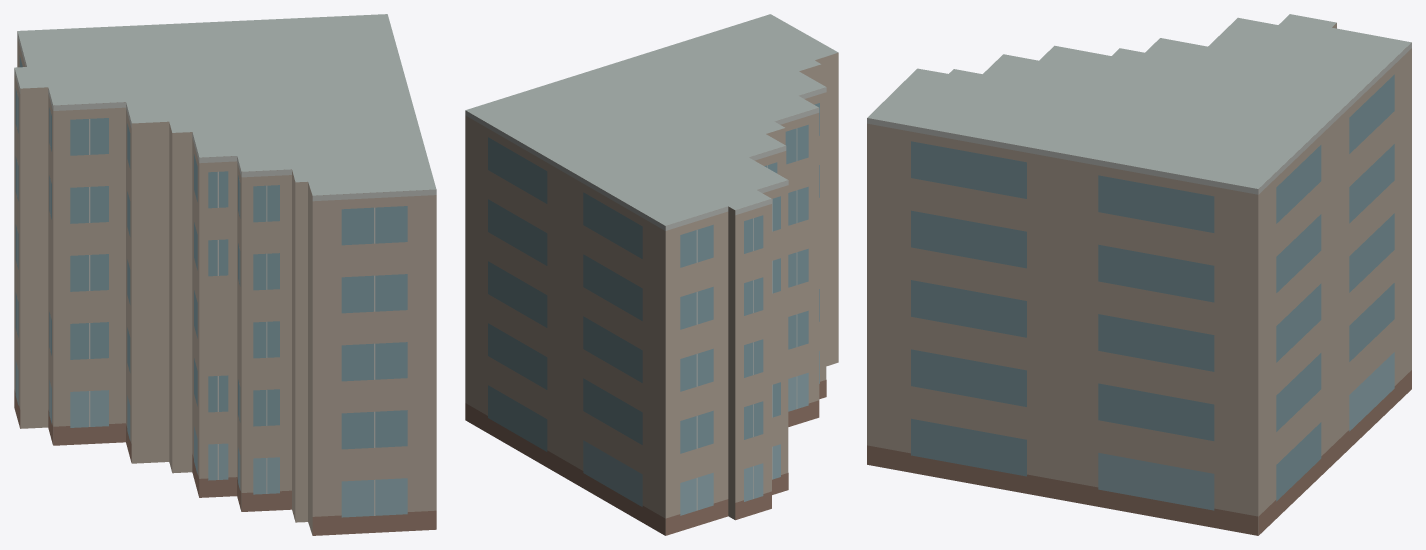
File: survey-upis-32933473.glb
The picture shows the model from 3 angles, left to right: view 1: azimuth 30°, elevation 25°; view 2: azimuth 150°, elevation 25°; view 3: azimuth 270°, elevation 25°; orthographic projection. The views are drawn at different scales.
Parts seen in each view (by area): view 1: survey-upis-32933473.tmp; view 2: survey-upis-32933473.tmp; view 3: survey-upis-32933473.tmp.
Boxes of the visible parts, left/top/right/bottom form: survey-upis-32933473.tmp: left=14, top=14, right=436, bottom=535; survey-upis-32933473.tmp: left=465, top=14, right=838, bottom=535; survey-upis-32933473.tmp: left=867, top=14, right=1411, bottom=535.
Size of the model in its own units: 16.03 by 14.8 by 21.08.
